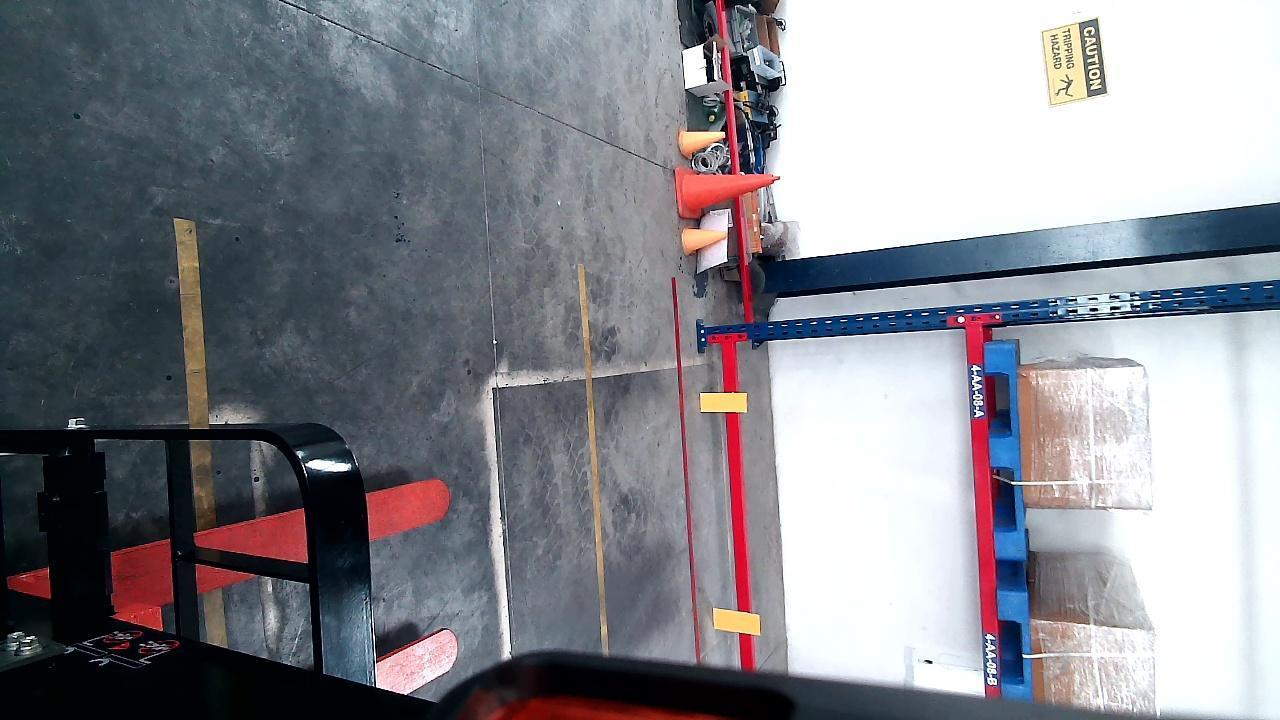h_rack: (718, 343, 753, 663), (970, 335, 999, 693)
orange_strip: (710, 607, 757, 635), (699, 390, 746, 413)
red_line: (669, 283, 703, 664)
small_pallet: (986, 337, 1024, 544), (995, 578, 1032, 701)
yellow_line: (574, 264, 616, 643), (180, 216, 209, 425)
